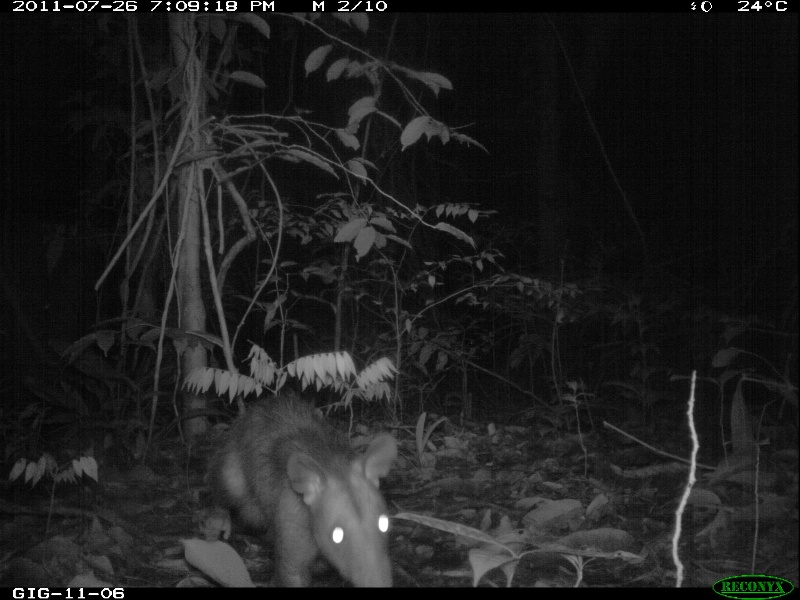opossum: (179, 403, 406, 587)
